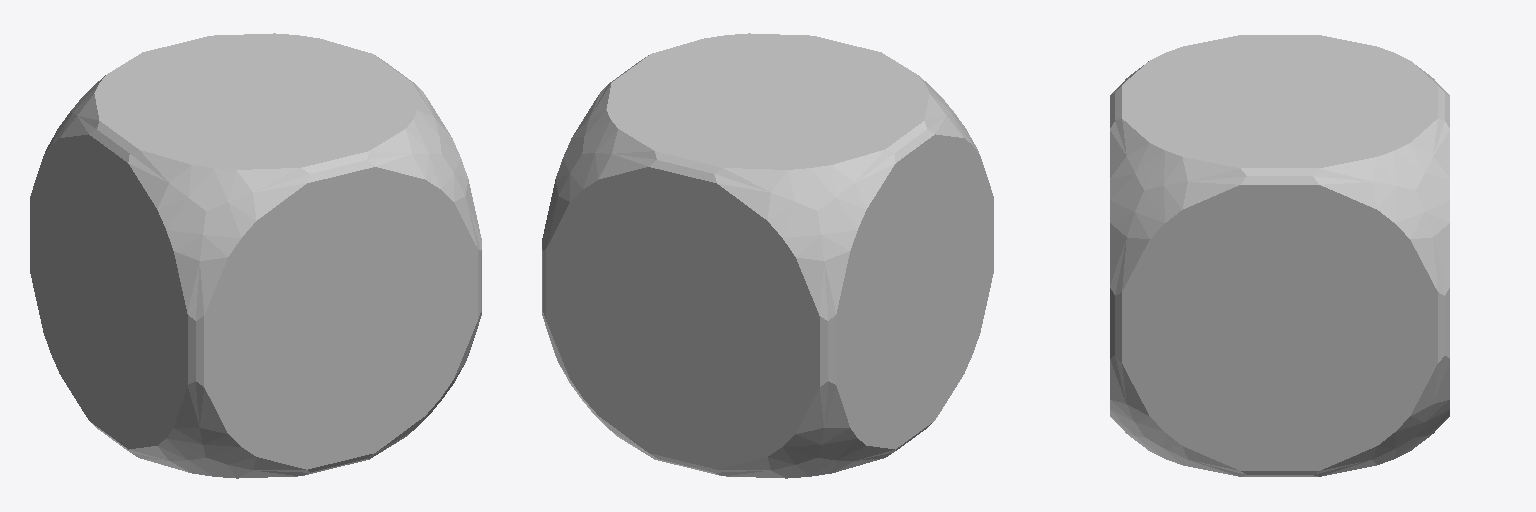
File: dice.obj
The picture shows the model from 3 angles: view 1: azimuth 30°, elevation 25°; view 2: azimuth 150°, elevation 25°; view 3: azimuth 270°, elevation 25°; orthographic projection.
Bounding box in the file's own units: 2.1 × 2.1 × 2.1.